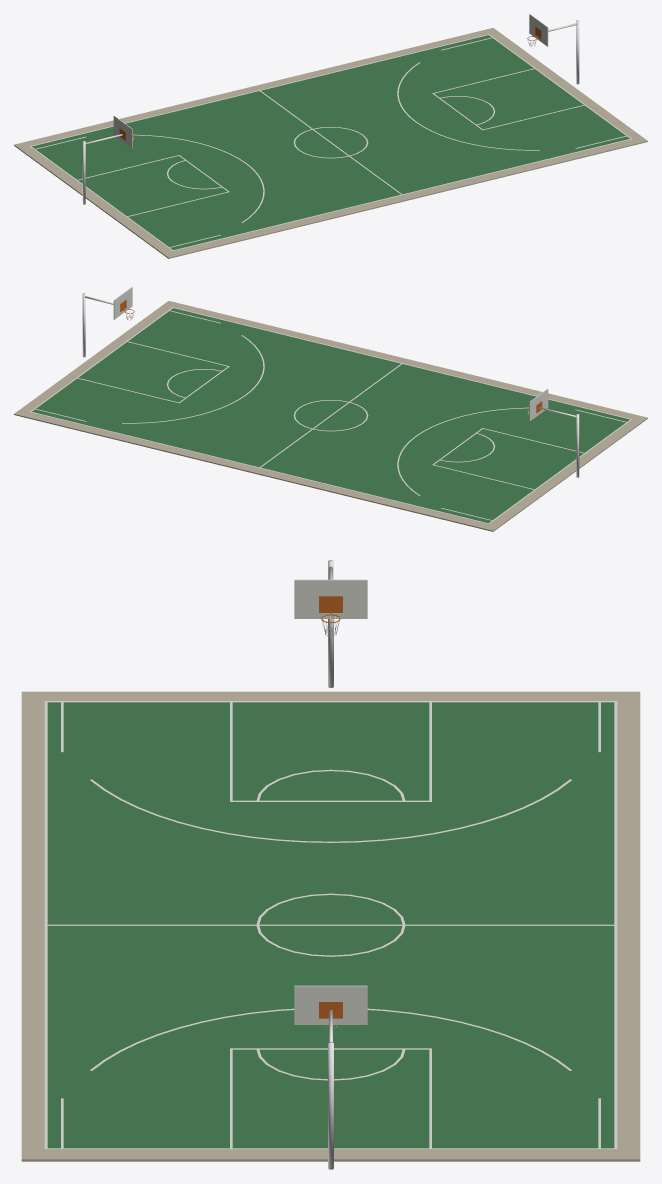
The model's file is hood_court_basketball.glb.
3 views of the same model, one above another, from view 1: azimuth 30°, elevation 25°; view 2: azimuth 150°, elevation 25°; view 3: azimuth 270°, elevation 25° (orthographic). The views are drawn at different scales.
Parts seen in each view (by area): view 1: paint, slab, board.012, arm.013; view 2: paint, slab, board.012, arm.013; view 3: paint, slab, board.012, arm.013.
Part boxes in pixels (x1=…): paint: x1=32, y1=35, x2=629, y2=250; slab: x1=14, y1=28, x2=647, y2=258; board.012: x1=30, y1=14, x2=631, y2=250; arm.013: x1=82, y1=20, x2=579, y2=204; paint: x1=32, y1=308, x2=629, y2=523; slab: x1=14, y1=301, x2=647, y2=531; board.012: x1=30, y1=287, x2=631, y2=523; arm.013: x1=82, y1=293, x2=579, y2=477; paint: x1=47, y1=702, x2=614, y2=1148; slab: x1=21, y1=691, x2=640, y2=1161; board.012: x1=44, y1=579, x2=617, y2=1149; arm.013: x1=328, y1=560, x2=333, y2=1169.
Bounding box in the file's own units: 28.15 × 3.93 × 15.2.
